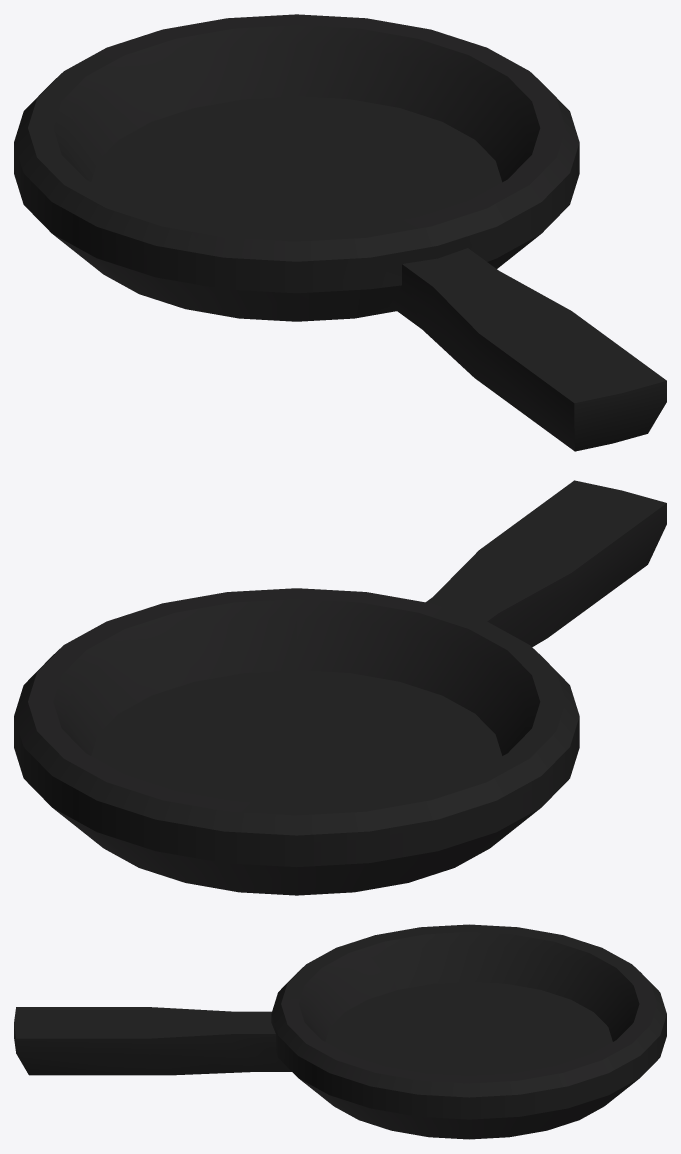
Rendered from pan.glb.
3 renders of one model, top to bottom at view 1: azimuth 30°, elevation 25°; view 2: azimuth 150°, elevation 25°; view 3: azimuth 270°, elevation 25°, orthographic. The views are drawn at different scales.
Parts seen in each view (by area): view 1: Environment_Pan; view 2: Environment_Pan; view 3: Environment_Pan.
Part boxes in pixels (x1,y1,x2,y2): Environment_Pan: [14, 14, 666, 451]; Environment_Pan: [14, 480, 666, 895]; Environment_Pan: [14, 924, 666, 1139].
Size of the model in its own units: 1.25 by 0.2428 by 2.07.
1 material, 1 textured.
